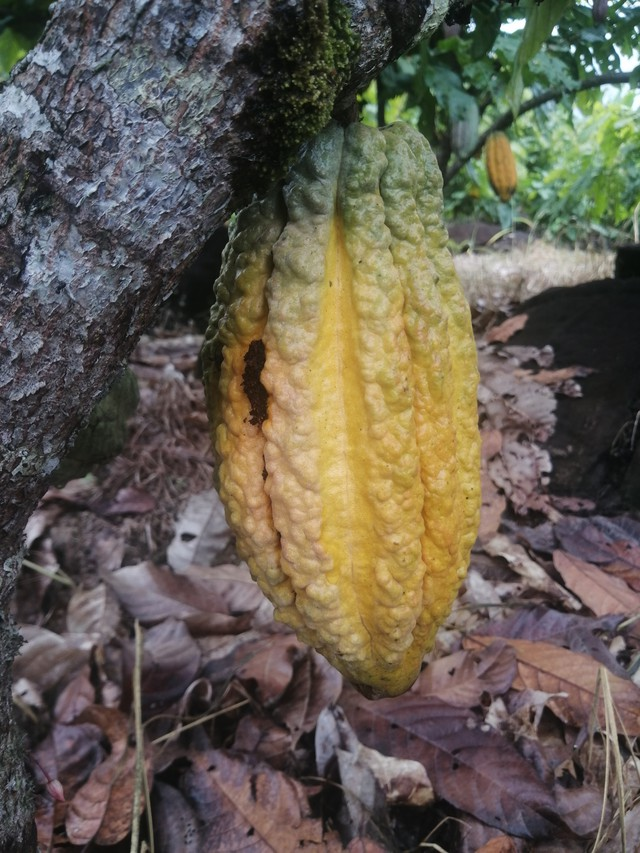carmenta foraseminis: (195, 105, 492, 705)
